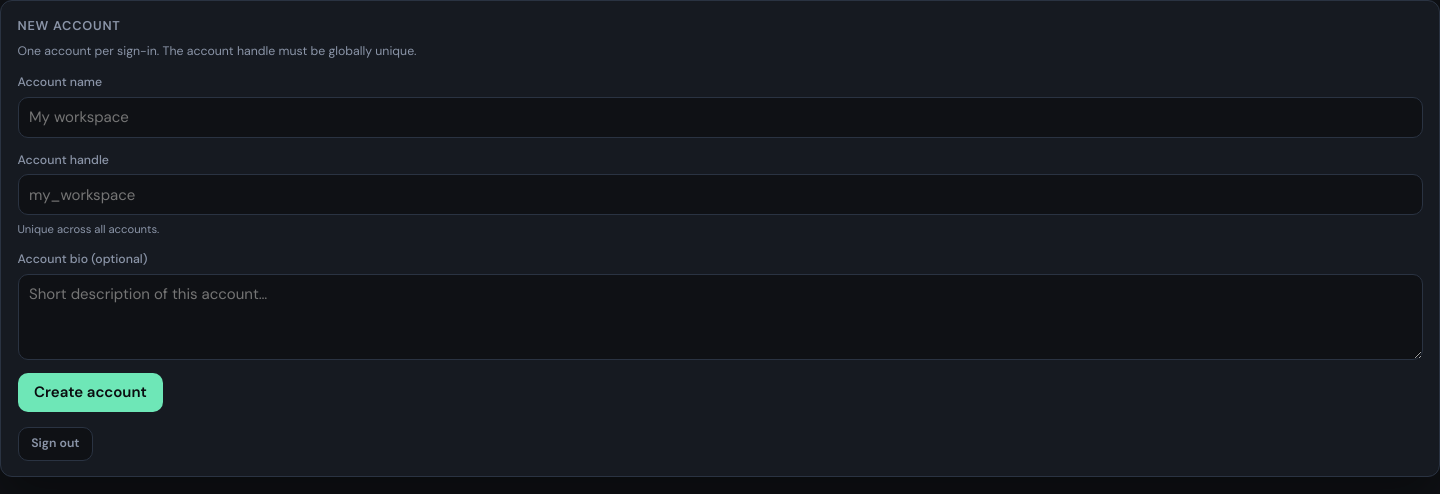
Test: AccountCreateForm › sanitizes handle input to allowed characters
Type "AbC!9" into the field labelled "Account handle Unique across all accounts." at coordinates (720, 195), box x1=18 y1=174 x2=1422 y2=215
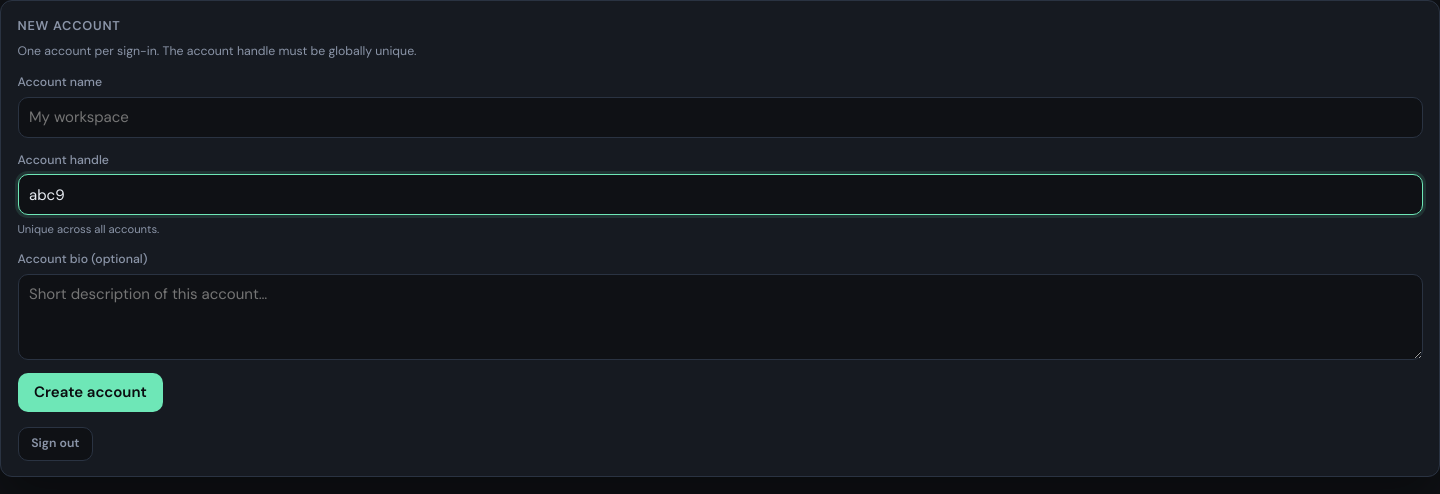
Result: the field labelled "Account handle Unique across all accounts." holds "abc9" at x1=18 y1=174 x2=1422 y2=215
